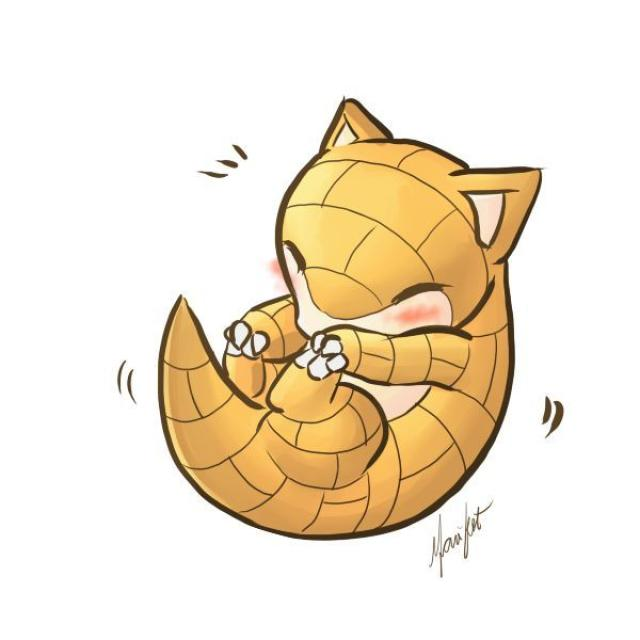Sandshrew: (139, 97, 540, 541)
